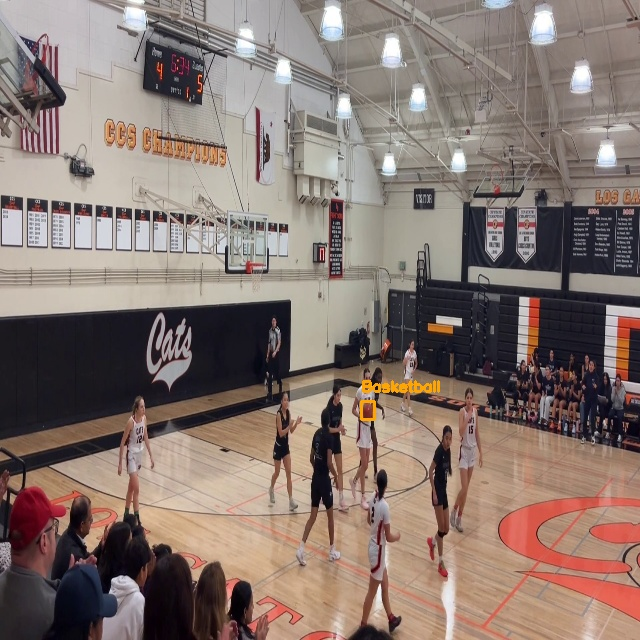Basketball: (361, 401, 374, 419)
